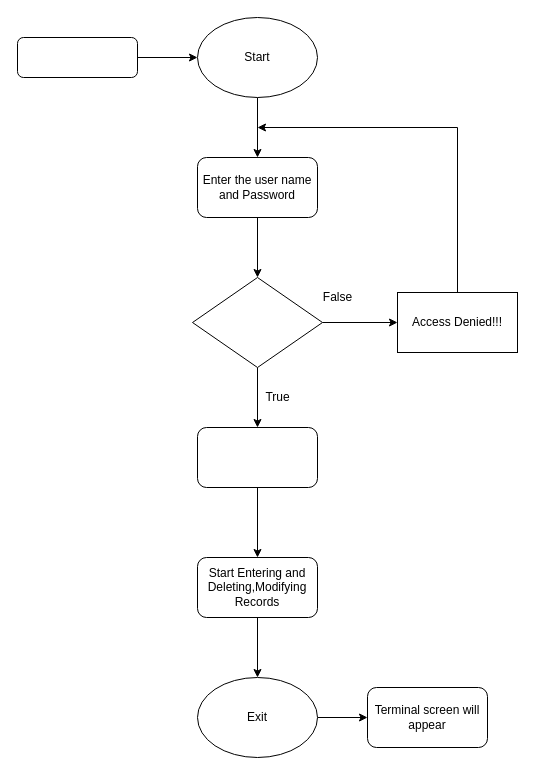
The diagram is 535 pixels wide and 775 high, and some of its shapes have lost their labels. Here are the shapes that lost their labels. From the top down, the centre of each, then its label:
At [77,57]: "Enter correct command in Terminal".
At [257,322]: "check login id and Password".
At [257,457]: "login Successful".
